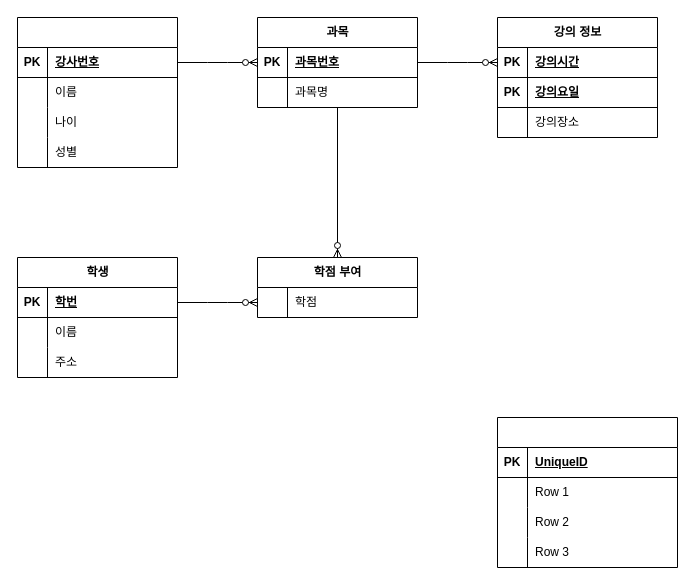
This 695x585 diagram has some shape labels left out. The box of each missing label's shape, as (x1, y1, x2, y2) in pixels:
Table: (496, 416, 678, 568)
강사: (16, 16, 178, 168)
